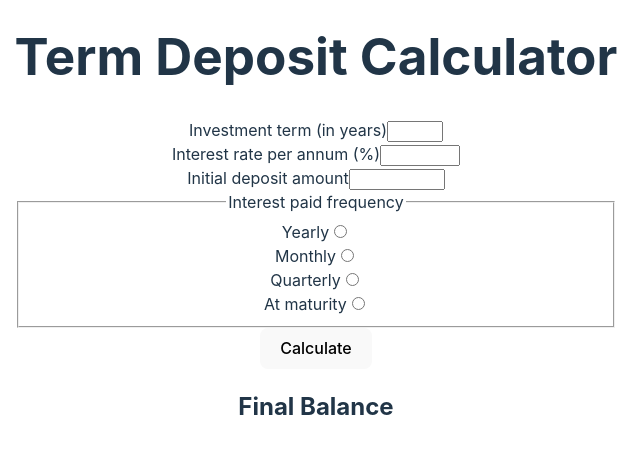
Test case: TermDepositCalculator › should display final balance when form is submitted with term deposit interest paid Monthly
The width and height of the screenshot is (634, 463).
In the number field labelled "Investment term (in years)": [415, 132] box [387, 121, 443, 142], type "3"
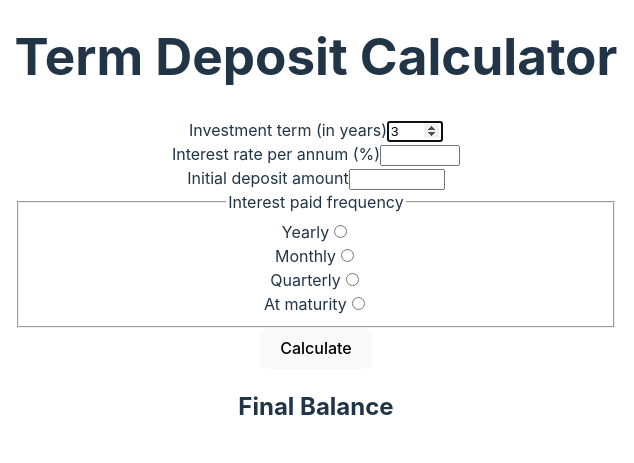
In the number field labelled "Interest rate per annum (%)": [420, 156] box [380, 145, 460, 166], type "5"
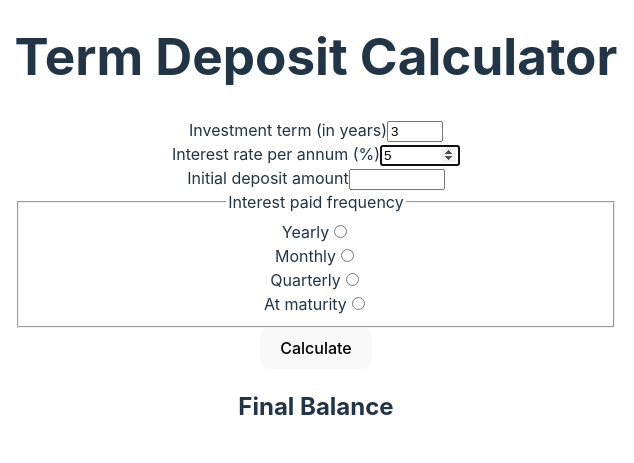
In the number field labelled "Initial deposit amount": [397, 180] box [349, 169, 445, 190], type "10000"
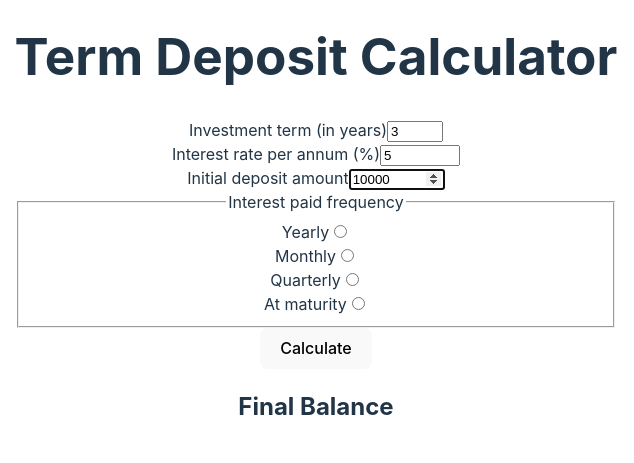
Click the radio button labelled "Monthly": [348, 255] box [341, 249, 354, 262]
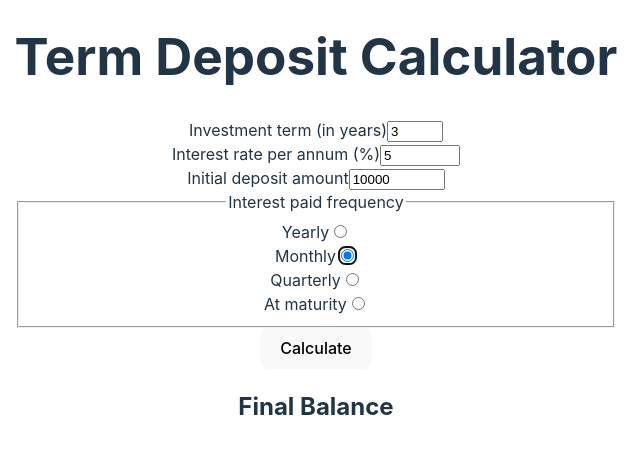
Click the button "Calculate": [316, 348] box [260, 328, 372, 369]
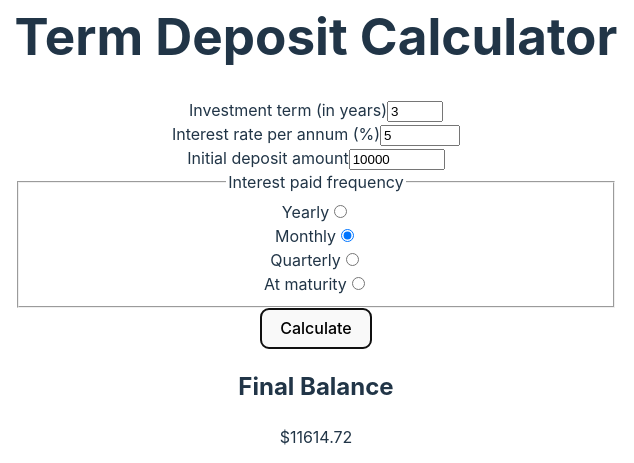
Result: the text "$11614.72" is shown at [280, 427, 352, 447]
